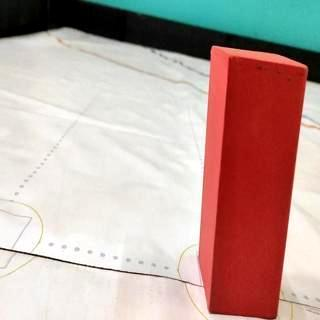redbox: (199, 45, 308, 320)
